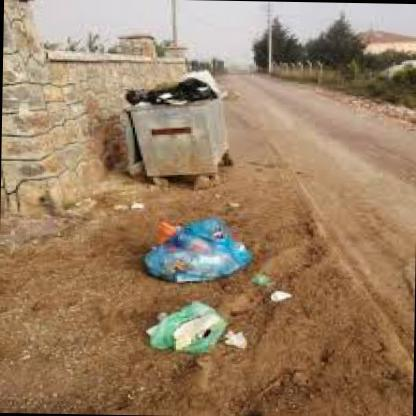Garbage: (136, 212, 274, 288), (124, 306, 241, 356), (115, 62, 212, 109), (262, 284, 294, 306)
